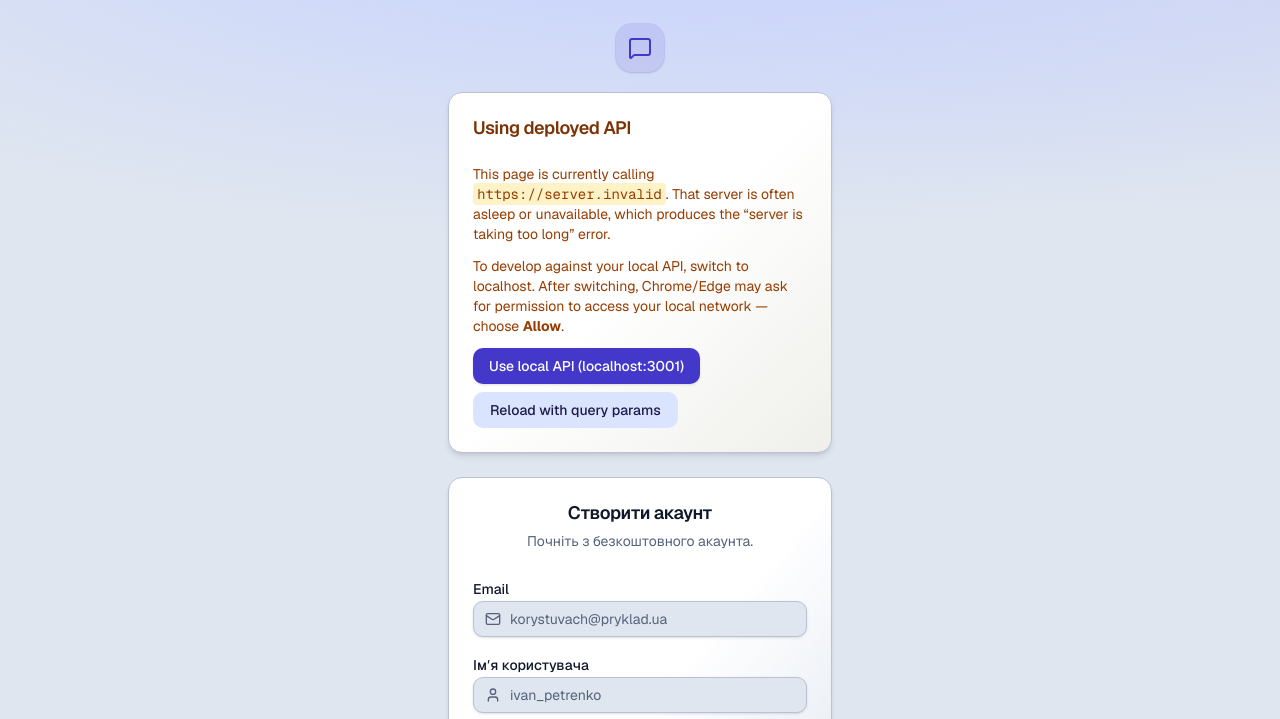
Test: RegisterPage › shows Ukrainian invalid username error
Type "test@example.com" into the field labelled "Email".
click(640, 619); type("test@example.com")  # box [473,601,807,637]
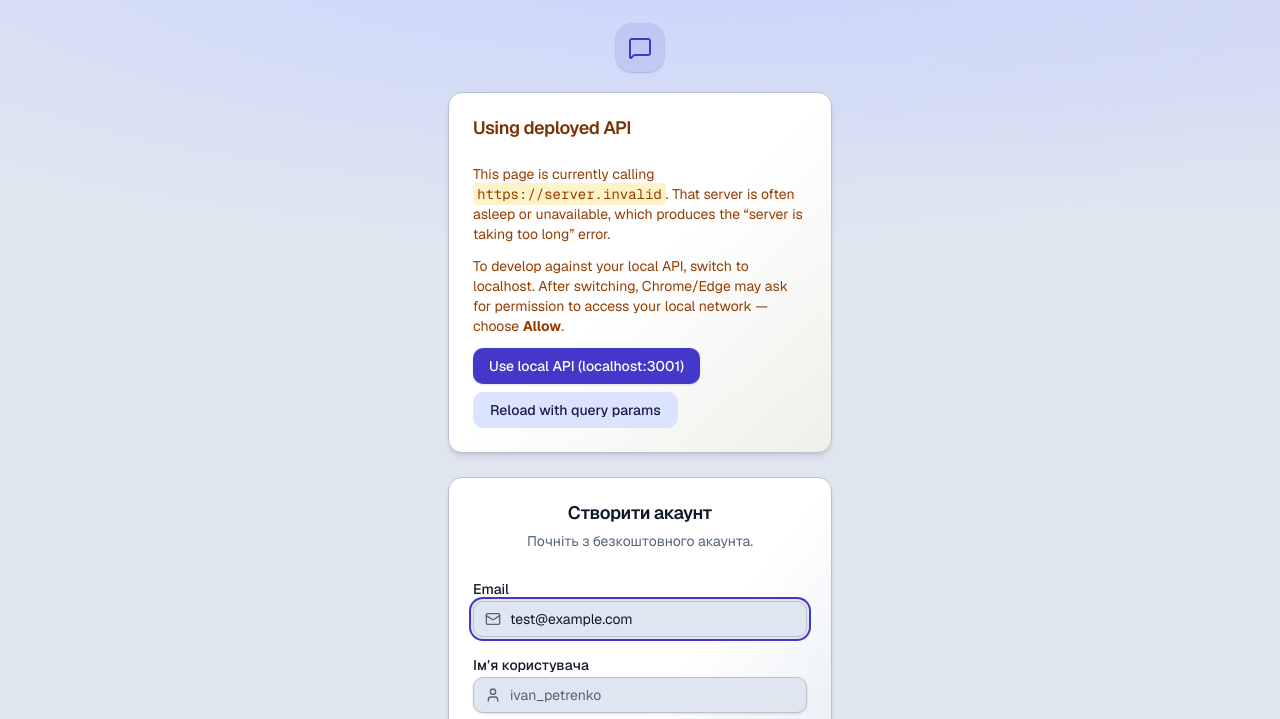
Type "invalid user!" into the field labelled "Імʼя користувача".
click(640, 695); type("invalid user!")  # box [473,677,807,713]
(page scrolled)
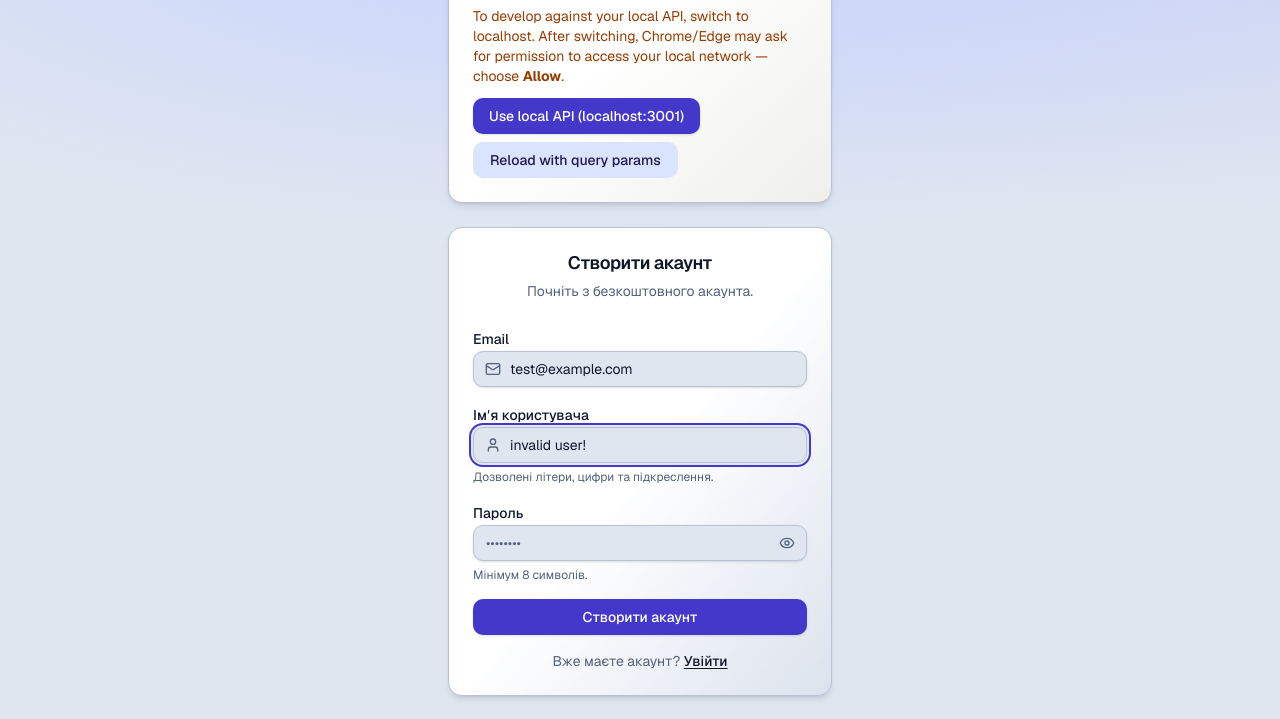
Type "password123" into the password field labelled "Пароль".
click(640, 543); type("password123")  # box [473,525,807,561]
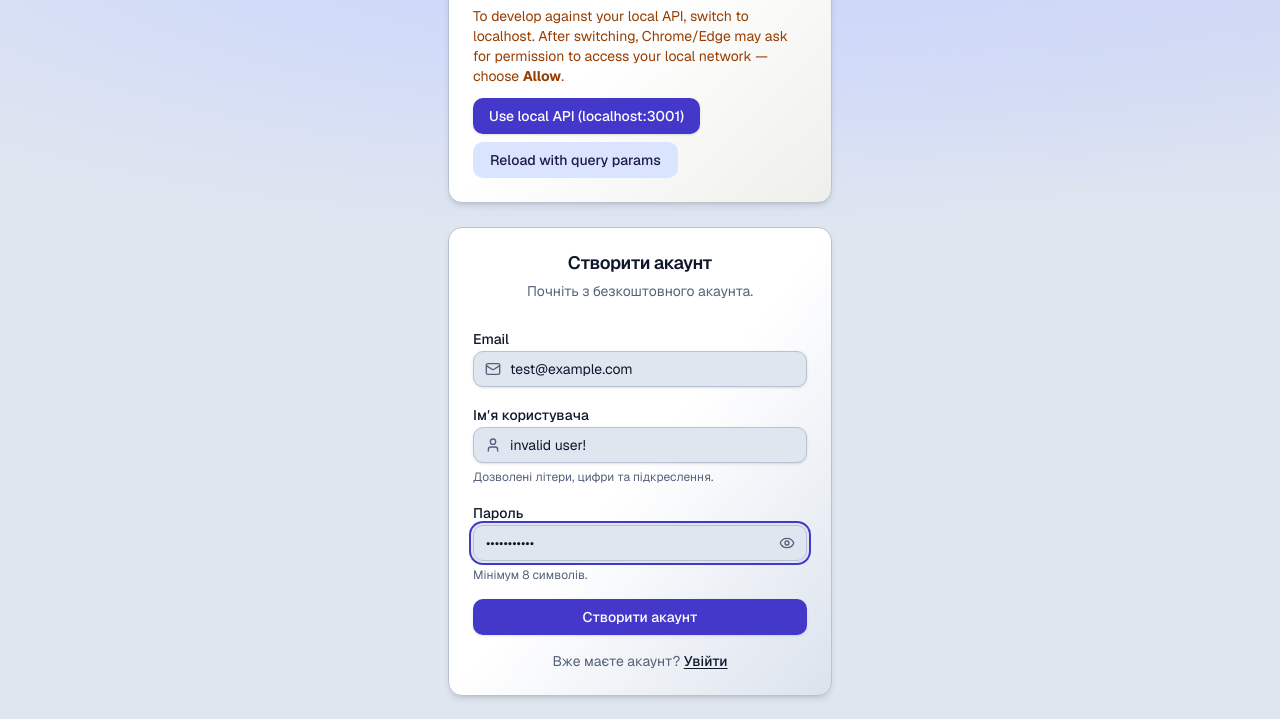
Click the button "Створити акаунт".
click(640, 617)  # box [473,599,807,635]
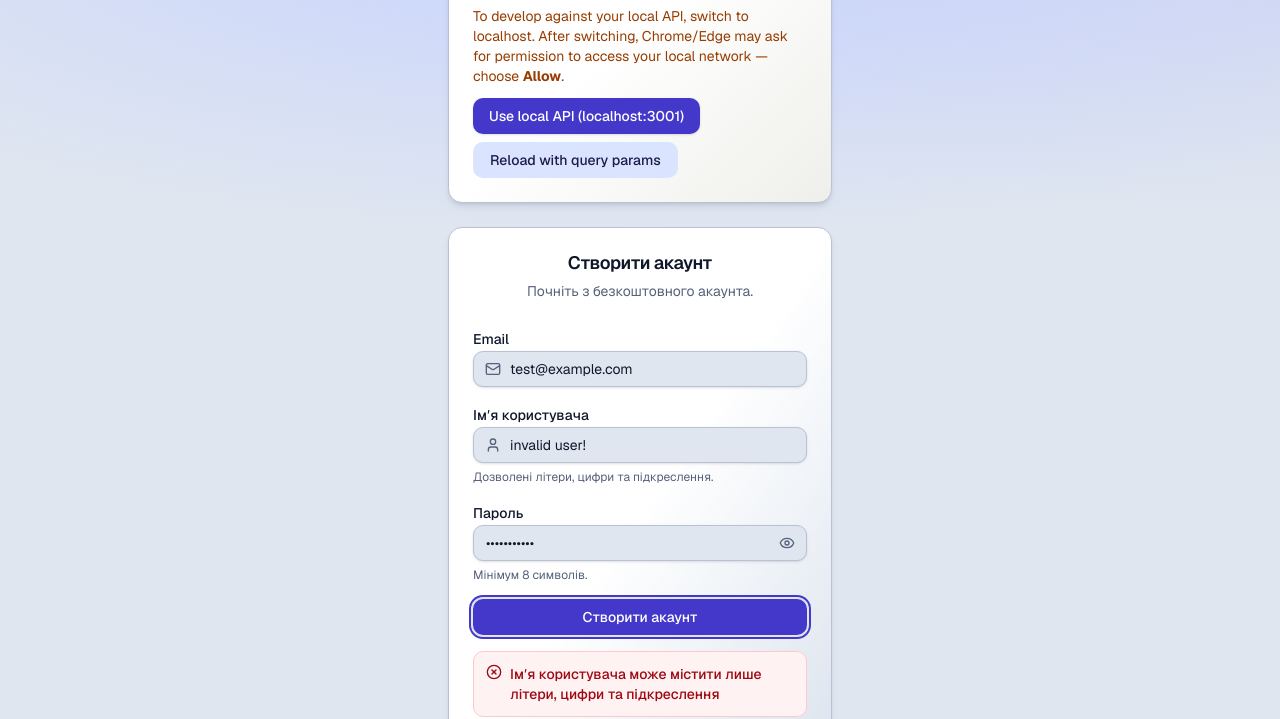
Expected: the text "Імʼя користувача може містити лише літери, цифри та підкреслення" is shown, [510,665,762,703]
